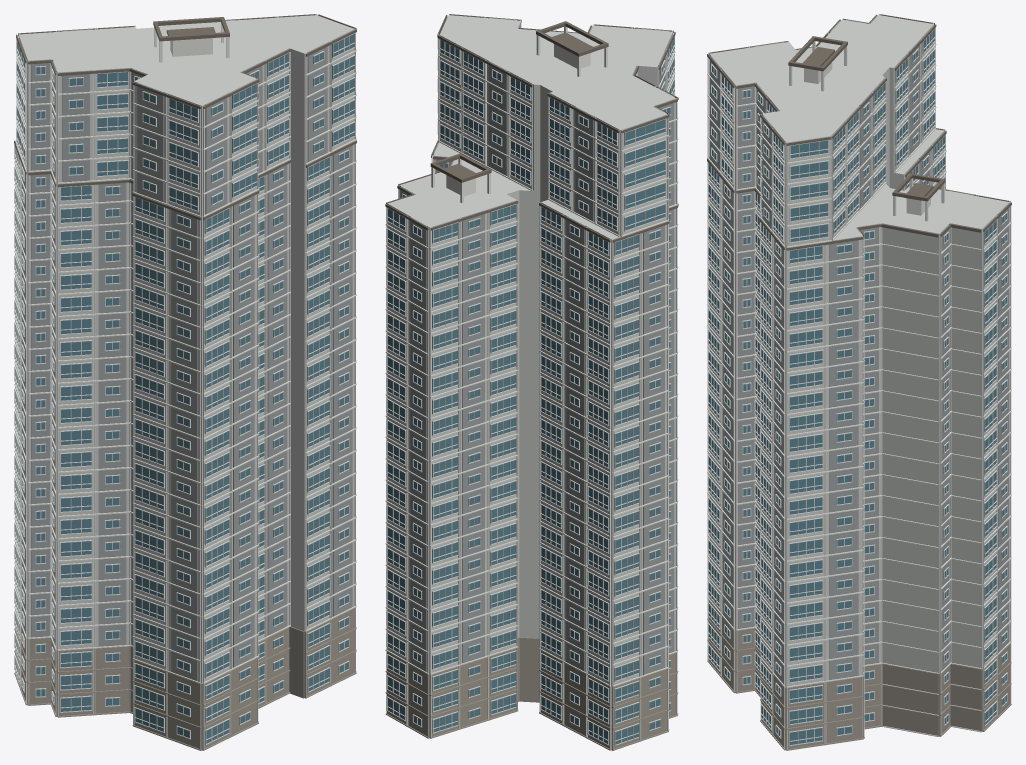
The model's file is bespoke-banpo-xi-109.glb.
3 renders of one model, left to right at view 1: azimuth 30°, elevation 25°; view 2: azimuth 150°, elevation 25°; view 3: azimuth 270°, elevation 25°, orthographic. The views are drawn at different scales.
Visible parts, largest first — view 1: BX109_editable_BX109_pale_silver_limestone, BX109_editable_BX109_grey_service_core, BX109_editable_BX109_blue_grey_broad_glazing, BX109_editable_BX109_white_window_frames, BX109_editable_BX109_ivory_course_bands, BX109_editable_BX109_warm_ground_stone, BX109_editable_BX109_dark_coping; view 2: BX109_editable_BX109_pale_silver_limestone, BX109_editable_BX109_blue_grey_broad_glazing, BX109_editable_BX109_white_window_frames, BX109_editable_BX109_ivory_course_bands, BX109_editable_BX109_grey_service_core, BX109_editable_BX109_warm_ground_stone, BX109_editable_BX109_dark_coping; view 3: BX109_editable_BX109_pale_silver_limestone, BX109_editable_BX109_blue_grey_broad_glazing, BX109_editable_BX109_white_window_frames, BX109_editable_BX109_grey_service_core, BX109_editable_BX109_ivory_course_bands, BX109_editable_BX109_warm_ground_stone, BX109_editable_BX109_dark_coping.
Part boxes in pixels (x1,y1,x2,y2): BX109_editable_BX109_pale_silver_limestone: (18, 15, 354, 749); BX109_editable_BX109_grey_service_core: (22, 20, 352, 681); BX109_editable_BX109_blue_grey_broad_glazing: (15, 34, 354, 743); BX109_editable_BX109_white_window_frames: (14, 33, 355, 745); BX109_editable_BX109_ivory_course_bands: (14, 14, 356, 749); BX109_editable_BX109_warm_ground_stone: (14, 608, 356, 750); BX109_editable_BX109_dark_coping: (14, 14, 356, 220); BX109_editable_BX109_pale_silver_limestone: (387, 15, 676, 749); BX109_editable_BX109_blue_grey_broad_glazing: (387, 19, 674, 744); BX109_editable_BX109_white_window_frames: (386, 21, 674, 745); BX109_editable_BX109_ivory_course_bands: (385, 14, 678, 749); BX109_editable_BX109_grey_service_core: (400, 18, 674, 675); BX109_editable_BX109_warm_ground_stone: (385, 637, 678, 750); BX109_editable_BX109_dark_coping: (385, 14, 678, 242); BX109_editable_BX109_pale_silver_limestone: (709, 15, 1009, 736); BX109_editable_BX109_blue_grey_broad_glazing: (708, 29, 1006, 744); BX109_editable_BX109_white_window_frames: (707, 28, 1007, 746); BX109_editable_BX109_grey_service_core: (710, 16, 1008, 684); BX109_editable_BX109_ivory_course_bands: (707, 14, 1011, 750); BX109_editable_BX109_warm_ground_stone: (707, 600, 1011, 750); BX109_editable_BX109_dark_coping: (707, 14, 1011, 250).
Bounding box in the file's own units: 35.85 × 81.3 × 35.6.
